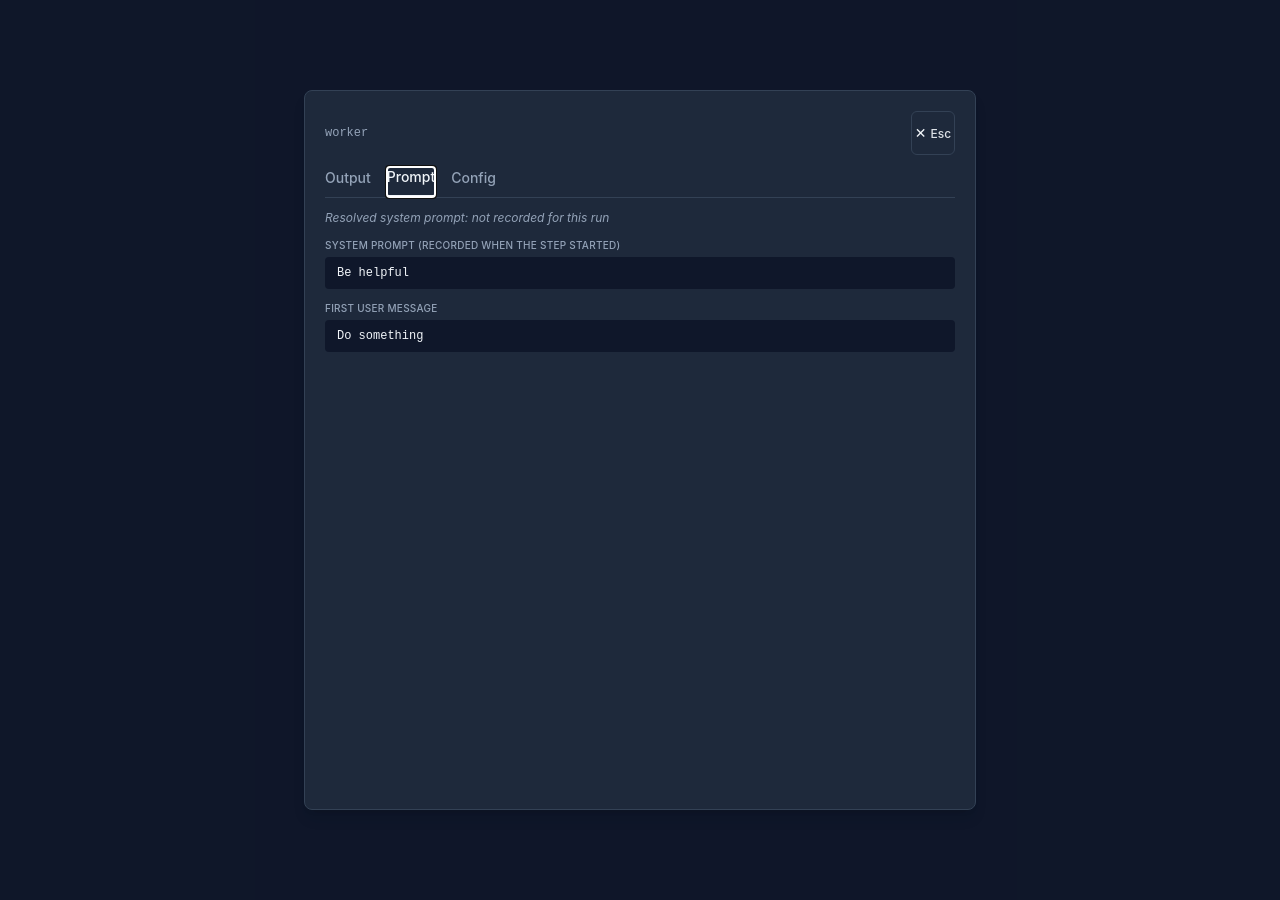
NodeDetailModal › config tab shares the prompt fetch (single config fetch for both)
Expected: the element with test id "prompt-content" is shown, x1=325 y1=210 x2=955 y2=352
Click the tab with test id "tab-config" at (474, 182), box x1=451 y1=167 x2=496 y2=197
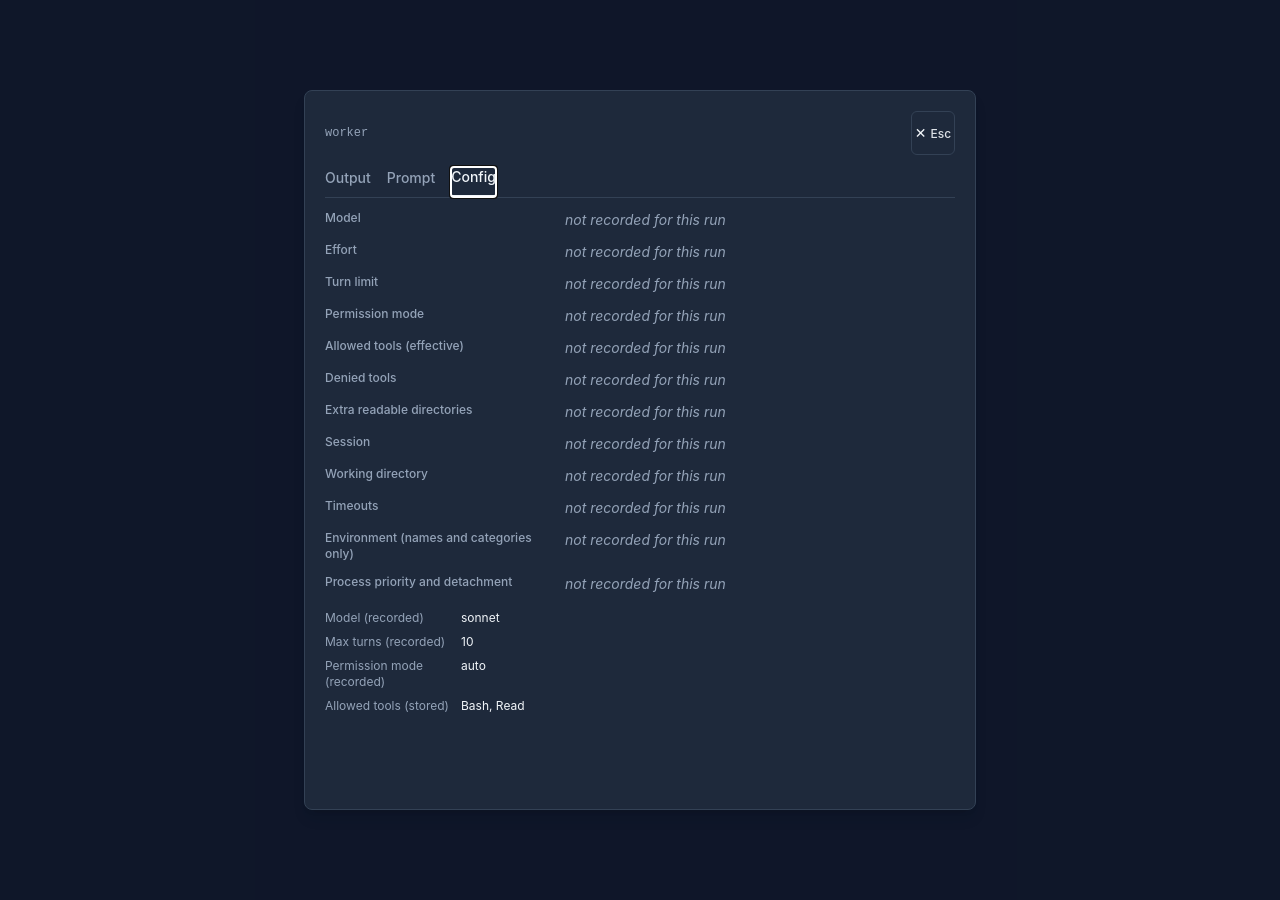
Expected: the element with test id "config-content" is shown, x1=325 y1=210 x2=726 y2=713
